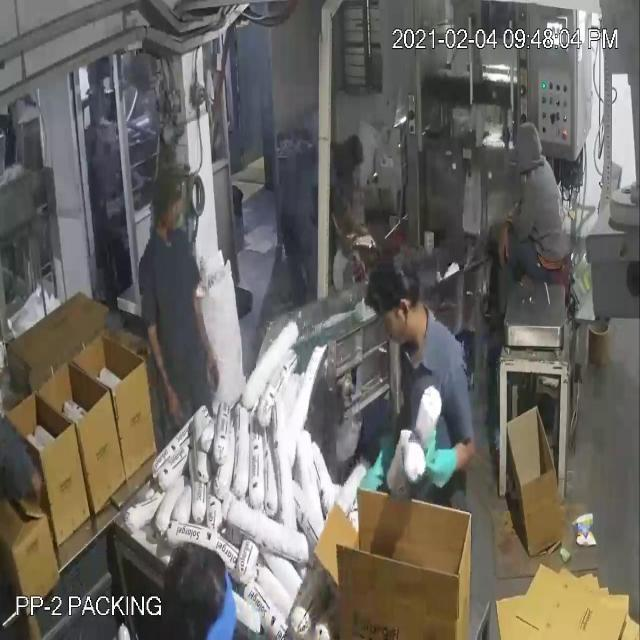No_Gloves: (40, 76, 506, 475)
